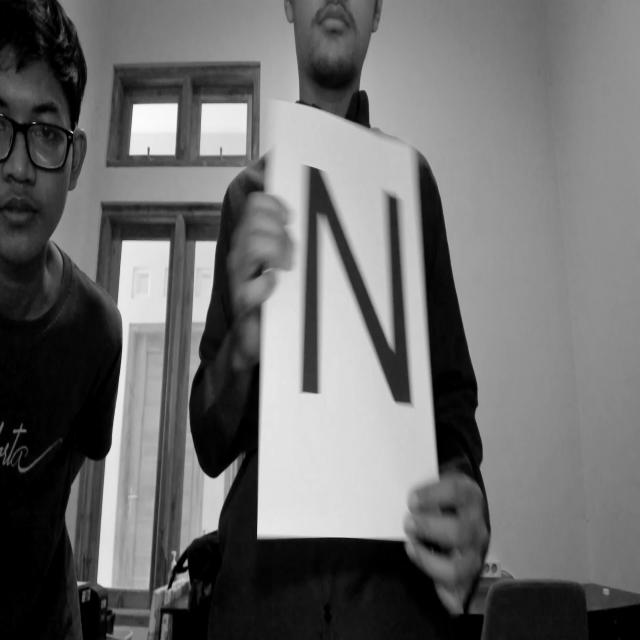n: (293, 156, 419, 438)
